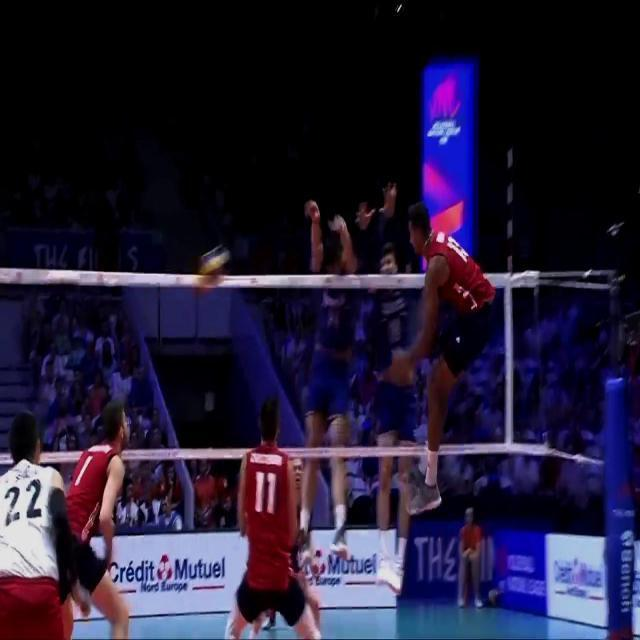volleyball: (197, 246, 232, 290)
